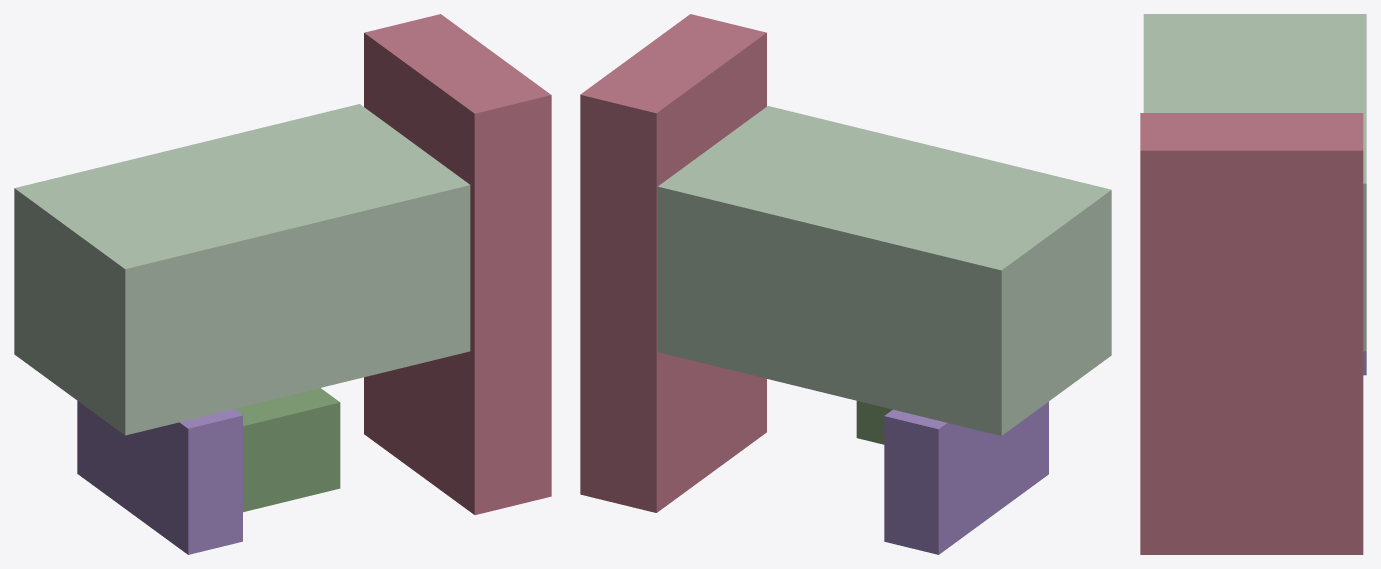
The model's file is 199515_pred.glb.
The picture shows the model from 3 angles, left to right: view 1: azimuth 30°, elevation 25°; view 2: azimuth 150°, elevation 25°; view 3: azimuth 270°, elevation 25°; orthographic projection.
Parts seen in each view (by area): view 1: world; view 2: world; view 3: world.
Part boxes in pixels (<box>): world: <box>14,14,551,554</box>; world: <box>580,14,1111,554</box>; world: <box>1140,14,1366,554</box>.
Bounding box in the file's own units: 7.75 × 7 × 3.55.
